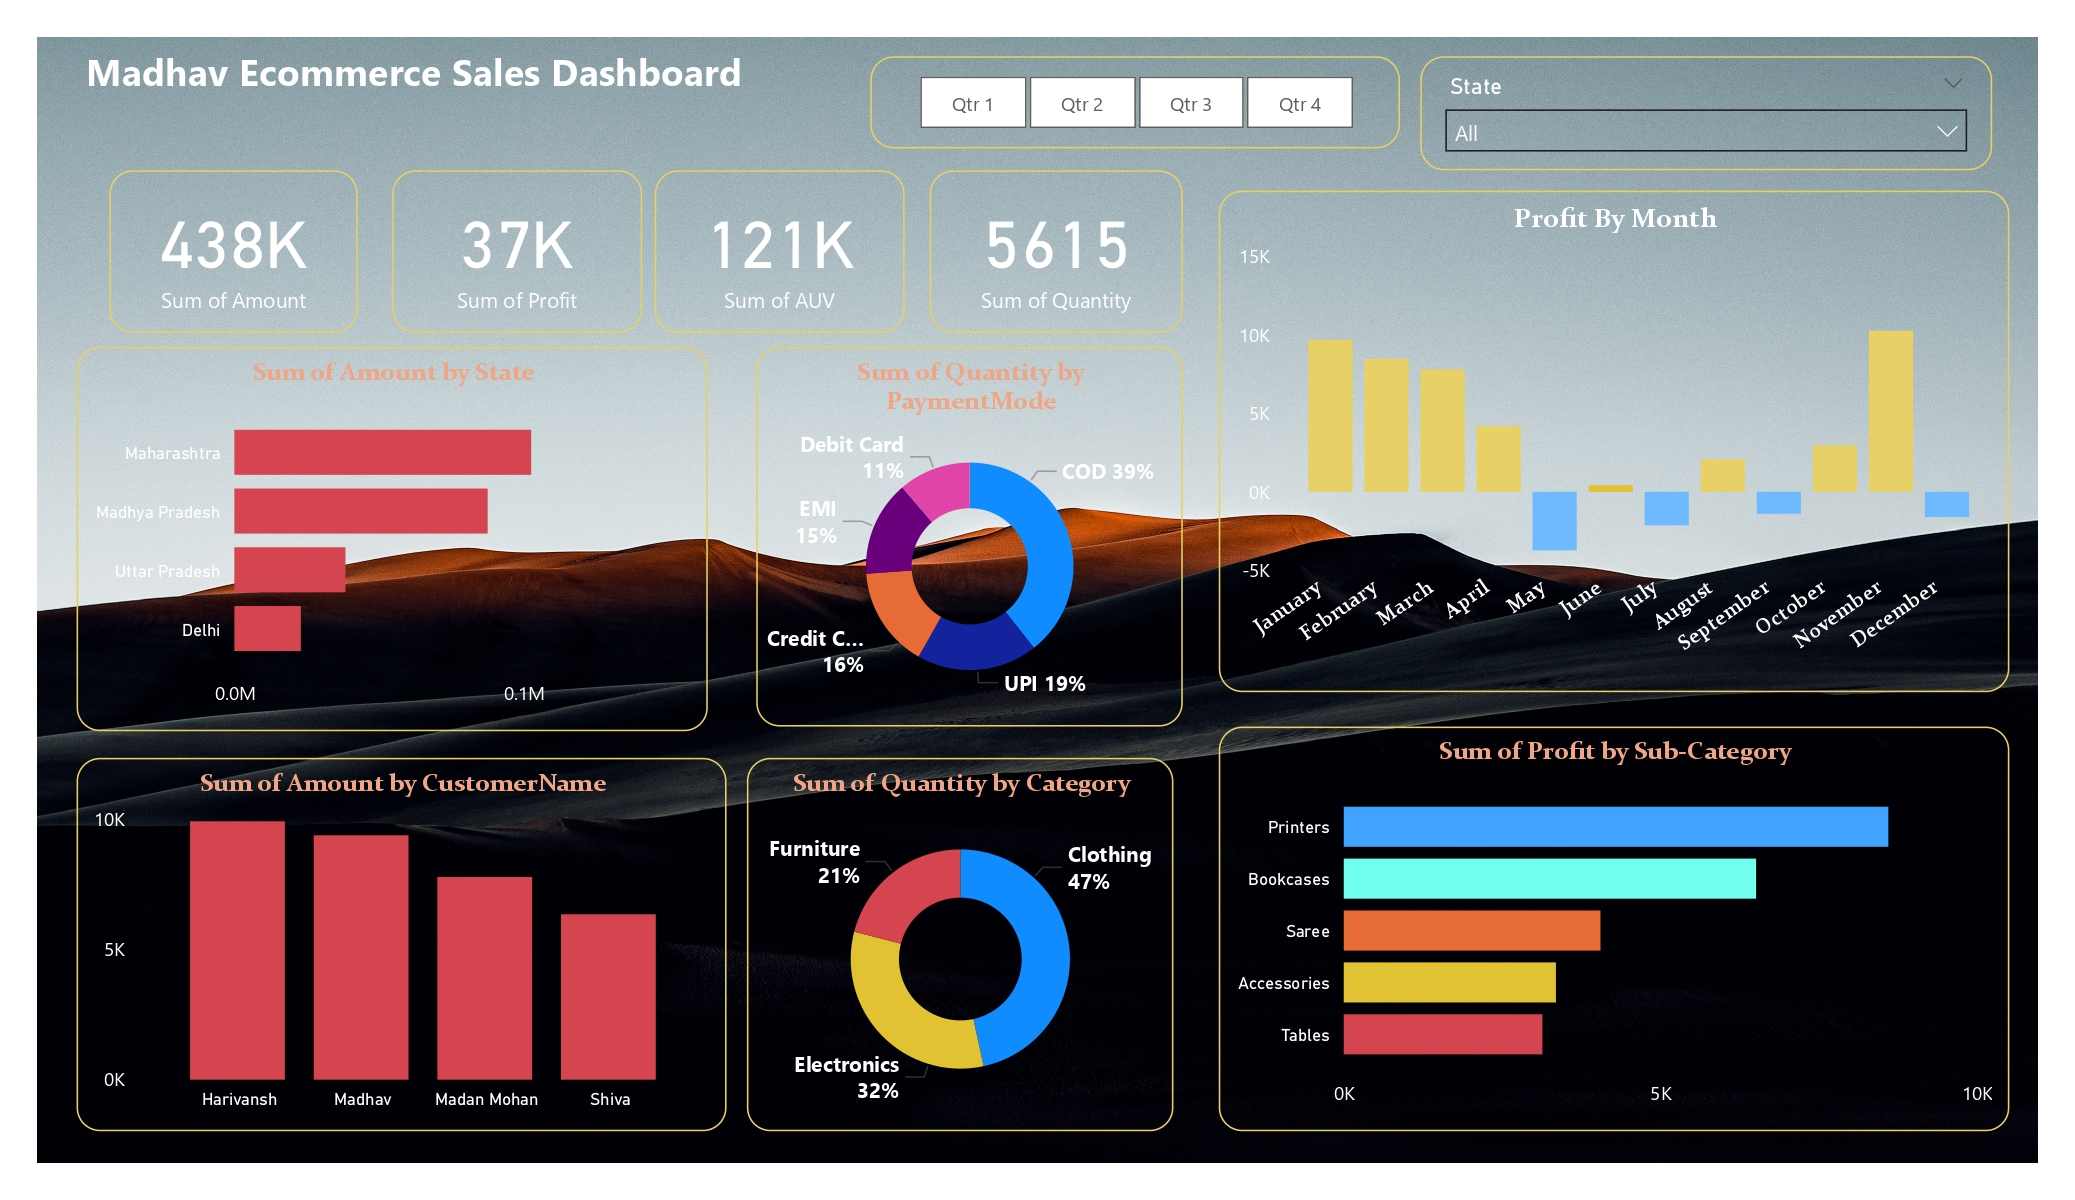

What the dashboard file says about the page in this screenshot:
{"tool":"powerbi","page":{"name":"Page 1","canvas":[1280,720],"ordinal":0},"visuals":[{"type":"textbox","box":[26,0,491.6,59.3],"z":0},{"type":"columnChart","title":"Profit By Month","fields":{"Y":["Details.Profit"],"Category":["Orders.Order Date.Variation.Date Hierarchy.Month"]},"box":[756.1,98.3,506,321],"z":1000},{"type":"barChart","fields":{"Category":["Details.Sub-Category"],"Y":["Details.Profit"]},"box":[756.1,441,506,258.8],"z":2000},{"type":"donutChart","fields":{"Category":["Details.Category"],"Y":["Details.Quantity"]},"box":[454,461.2,273.3,238.6],"z":3000},{"type":"donutChart","fields":{"Category":["Details.PaymentMode"],"Y":["Details.Quantity"]},"box":[459.8,198.1,273.3,242.9],"z":4000},{"type":"card","fields":{"Values":["Details.Amount"]},"box":[46.3,85.3,159,104.1],"z":5000},{"type":"card","fields":{"Values":["Details.Profit"]},"box":[227,85.3,160.5,104.1],"z":6000},{"type":"card","fields":{"Values":["Details.Quantity"]},"box":[571.1,85.3,161.9,104.1],"z":7000},{"type":"card","fields":{"Values":["Details.AUV"]},"box":[394.7,85.3,160.5,104.1],"z":8000},{"type":"barChart","fields":{"Category":["Orders.State"],"Y":["Details.Amount"]},"box":[24.6,198.1,404.8,245.8],"z":9000},{"type":"columnChart","fields":{"Category":["Orders.CustomerName"],"Y":["Details.Amount"]},"box":[24.6,461.2,416.4,238.6],"z":10000},{"type":"slicer","fields":{"Values":["Orders.Order Date.Variation.Date Hierarchy.Quarter"]},"box":[533.5,11.6,338.3,59.3],"z":11000},{"type":"slicer","fields":{"Values":["Orders.State"]},"box":[884.8,11.6,365.8,73.7],"z":12000}]}

Visuals, with their boxes on the page's 1280x720 design canvas (x1, y1, x2, y2). These are canvas units, not pixel positions in the 2075x1200 screenshot, which may show the page scaled, cropped or inside an application window:
textbox: <box>26,0,518,59</box>
"Profit By Month" columnChart: <box>756,98,1262,419</box>
barChart - Details.Sub-Category x Details.Profit: <box>756,441,1262,700</box>
donutChart - Details.Category x Details.Quantity: <box>454,461,727,700</box>
donutChart - Details.PaymentMode x Details.Quantity: <box>460,198,733,441</box>
card - Details.Amount: <box>46,85,205,189</box>
card - Details.Profit: <box>227,85,388,189</box>
card - Details.Quantity: <box>571,85,733,189</box>
card - Details.AUV: <box>395,85,555,189</box>
barChart - Orders.State x Details.Amount: <box>25,198,429,444</box>
columnChart - Orders.CustomerName x Details.Amount: <box>25,461,441,700</box>
slicer - Orders.Order Date.Variation.Date Hierarchy.Quarter: <box>534,12,872,71</box>
slicer - Orders.State: <box>885,12,1251,85</box>
